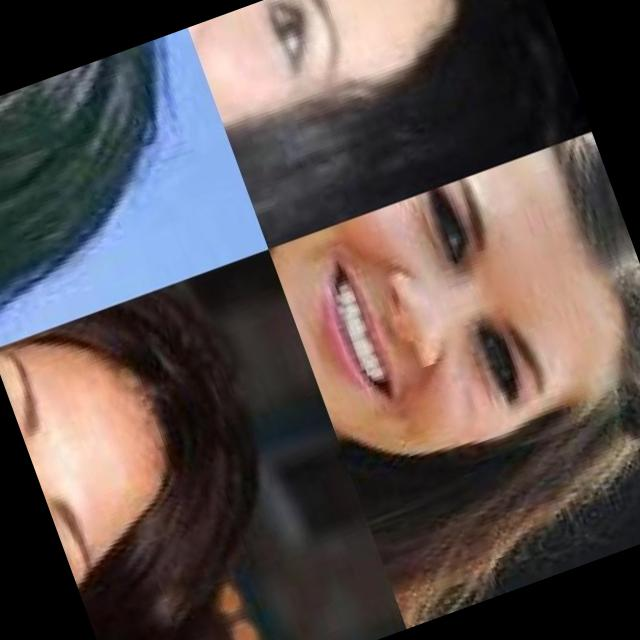bareface: (297, 138, 640, 518)
